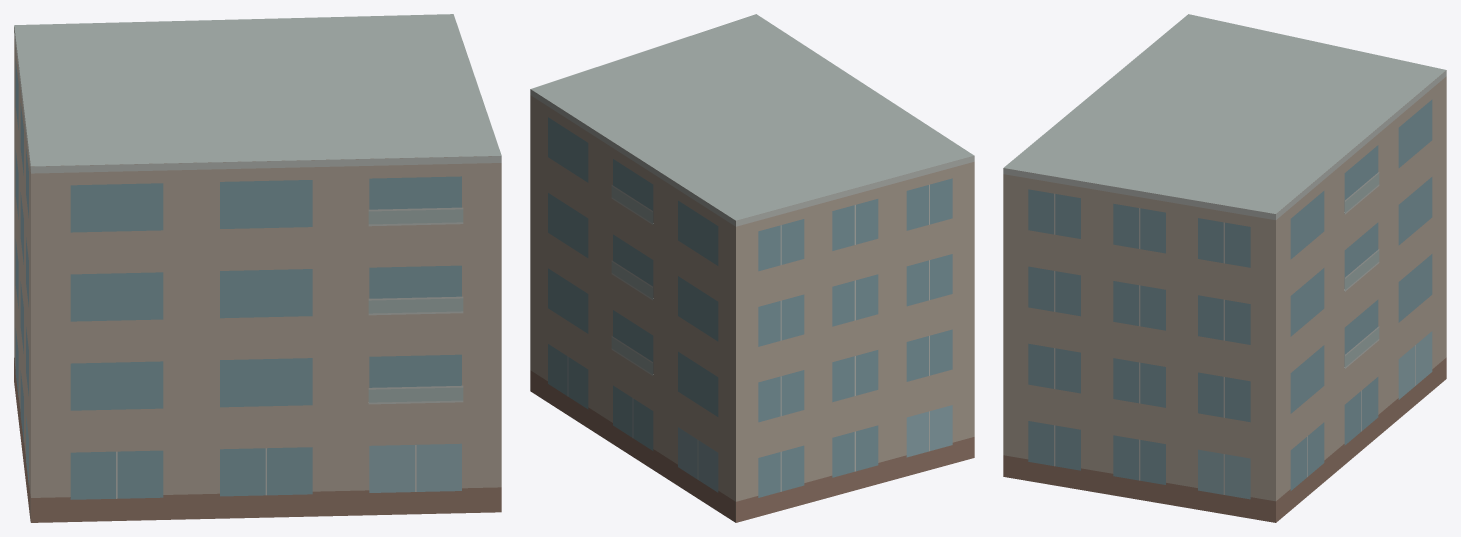
The model's file is survey-upis-32970052.glb.
3 views of the same model, side by side, from view 1: azimuth 30°, elevation 25°; view 2: azimuth 150°, elevation 25°; view 3: azimuth 270°, elevation 25° (orthographic). The views are drawn at different scales.
Visible parts, largest first — view 1: survey-upis-32970052.tmp; view 2: survey-upis-32970052.tmp; view 3: survey-upis-32970052.tmp.
Part boxes in pixels (box(x1,y1,x2,y2)): survey-upis-32970052.tmp: box(14, 14, 501, 522); survey-upis-32970052.tmp: box(530, 14, 974, 522); survey-upis-32970052.tmp: box(1003, 14, 1446, 522).
Bounding box in the file's own units: 17 × 12.22 × 15.92.
